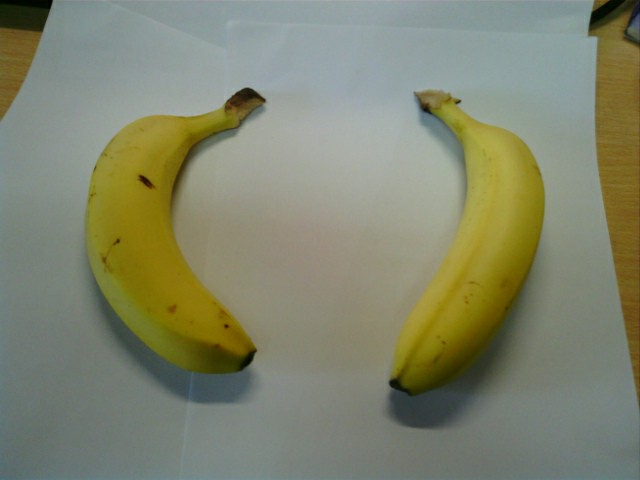fresh_banana: (385, 88, 546, 397)
normal_banana: (85, 90, 257, 372)
